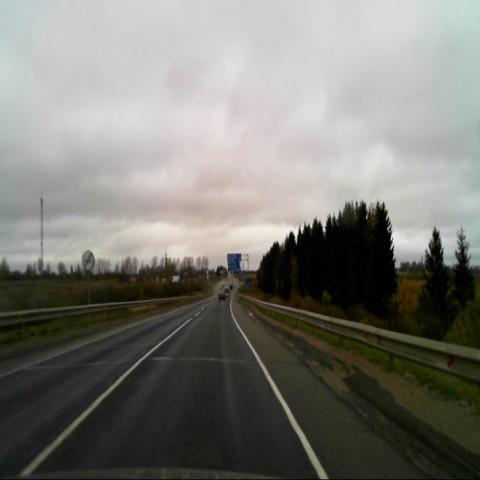3_21: (82, 250, 94, 272)
